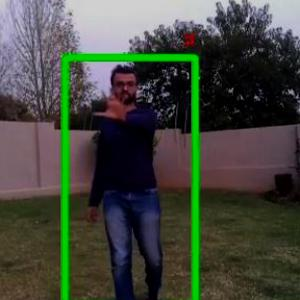follow_hand: (94, 83, 135, 123)
